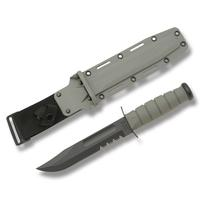knife: (29, 82, 191, 181)
